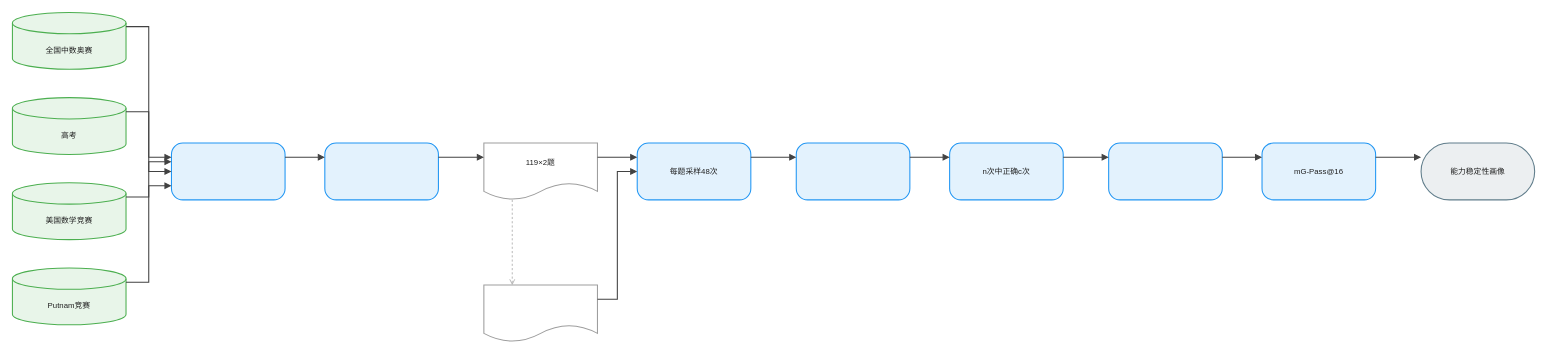
Image size: 1548x355. Some labels were removed from this diagram. Here are the shapes that lost their labels. From the top down, the box of each, then its label:
(171, 142, 285, 200): 筛选与题型转换
(324, 142, 439, 200): 中英文配对
(795, 142, 910, 200): Qwen答案裁判
(1108, 142, 1222, 200): 贪心与G-Pass
(483, 284, 598, 342): 低准确率困难集
